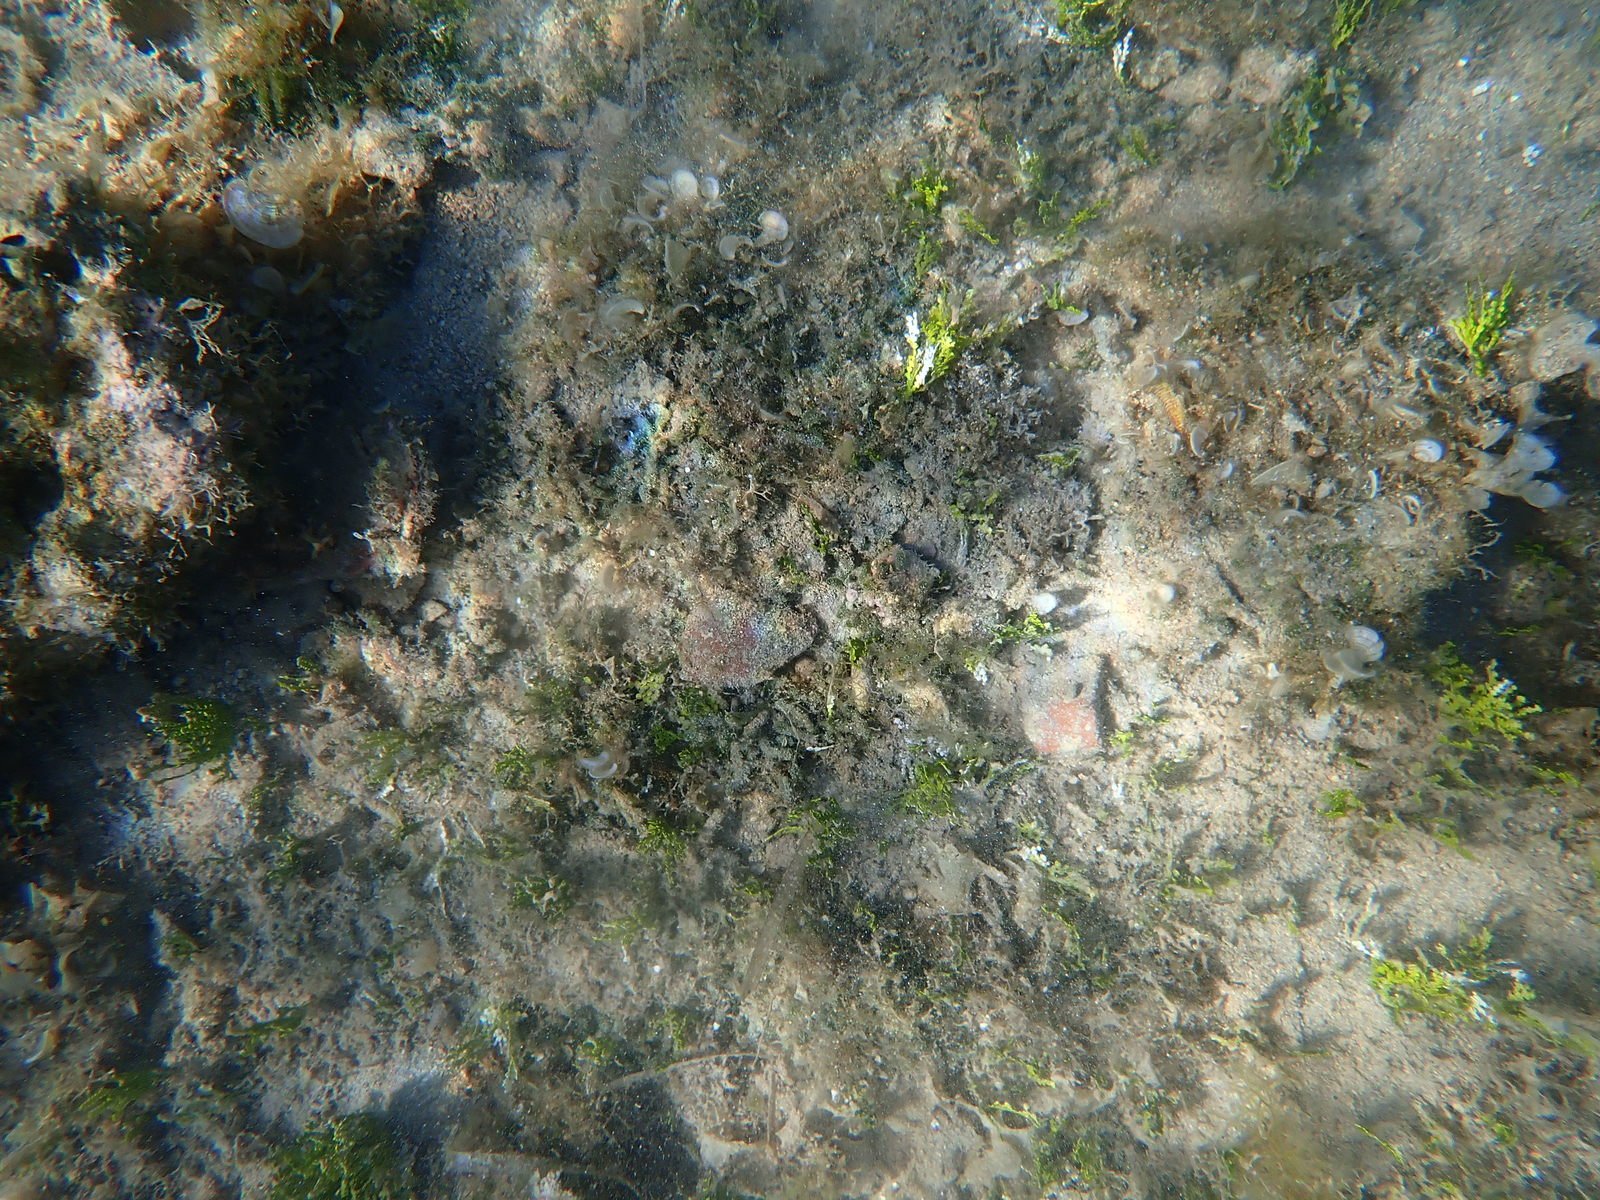halimeda: (272, 1107, 409, 1200), (1374, 961, 1500, 1031), (902, 281, 976, 400), (1443, 658, 1545, 742), (1449, 267, 1519, 373), (146, 697, 236, 774), (74, 1066, 157, 1145), (894, 744, 957, 816), (461, 1005, 519, 1082), (1415, 755, 1506, 800), (1162, 858, 1241, 904), (1058, 1, 1133, 49), (1013, 845, 1083, 895), (1276, 108, 1322, 187), (632, 816, 693, 874), (233, 1003, 310, 1047), (1516, 754, 1584, 798), (1498, 955, 1540, 1022), (1417, 812, 1479, 855), (1439, 920, 1500, 963), (1516, 1016, 1599, 1047), (514, 879, 580, 916), (1424, 642, 1477, 688), (1352, 1123, 1406, 1167), (995, 1044, 1053, 1084), (1299, 66, 1352, 110), (1023, 290, 1091, 323), (270, 832, 307, 889), (493, 745, 556, 778), (358, 729, 409, 768), (1115, 127, 1165, 166), (472, 833, 528, 868), (1063, 200, 1109, 243), (1334, 1, 1374, 48), (251, 766, 282, 824), (1007, 142, 1044, 190), (655, 1007, 694, 1051), (913, 171, 947, 222), (530, 677, 577, 713), (1475, 1111, 1521, 1147), (1072, 1137, 1102, 1189), (951, 500, 1002, 529), (1143, 1088, 1173, 1136), (1112, 28, 1138, 84), (596, 921, 655, 945), (918, 231, 944, 284), (627, 666, 661, 705), (961, 212, 1002, 245), (792, 800, 842, 827), (978, 320, 1038, 342), (801, 505, 829, 552), (1318, 792, 1364, 819), (1022, 616, 1057, 652), (989, 1100, 1041, 1124), (1036, 447, 1083, 473), (524, 795, 559, 828), (675, 689, 718, 716), (163, 928, 198, 958), (580, 1035, 616, 1064), (963, 648, 991, 684), (671, 744, 711, 770), (734, 876, 770, 905), (1517, 539, 1552, 567), (1034, 1145, 1054, 1192), (277, 674, 315, 700), (1037, 192, 1062, 229), (649, 726, 680, 753), (843, 637, 866, 673), (1207, 1034, 1250, 1053), (1499, 624, 1548, 640), (990, 620, 1022, 645), (26, 803, 53, 832), (1018, 821, 1056, 839), (959, 759, 988, 783), (3, 799, 21, 833), (956, 458, 975, 490), (808, 855, 835, 876), (1357, 939, 1385, 961), (983, 420, 997, 459), (297, 654, 324, 674), (1143, 713, 1178, 729), (1046, 1118, 1066, 1143), (160, 1113, 198, 1126), (387, 818, 412, 837), (1546, 599, 1571, 618), (1337, 753, 1364, 769), (1104, 734, 1136, 747), (372, 947, 396, 966), (370, 996, 397, 1012), (784, 558, 805, 579), (409, 993, 433, 1011), (857, 903, 871, 932), (976, 107, 991, 134), (1378, 816, 1407, 828), (1014, 211, 1028, 234), (241, 715, 262, 730), (1153, 763, 1182, 771), (1558, 541, 1579, 553), (1260, 829, 1274, 845), (1558, 567, 1572, 581), (990, 493, 1000, 511), (1286, 921, 1295, 933)
